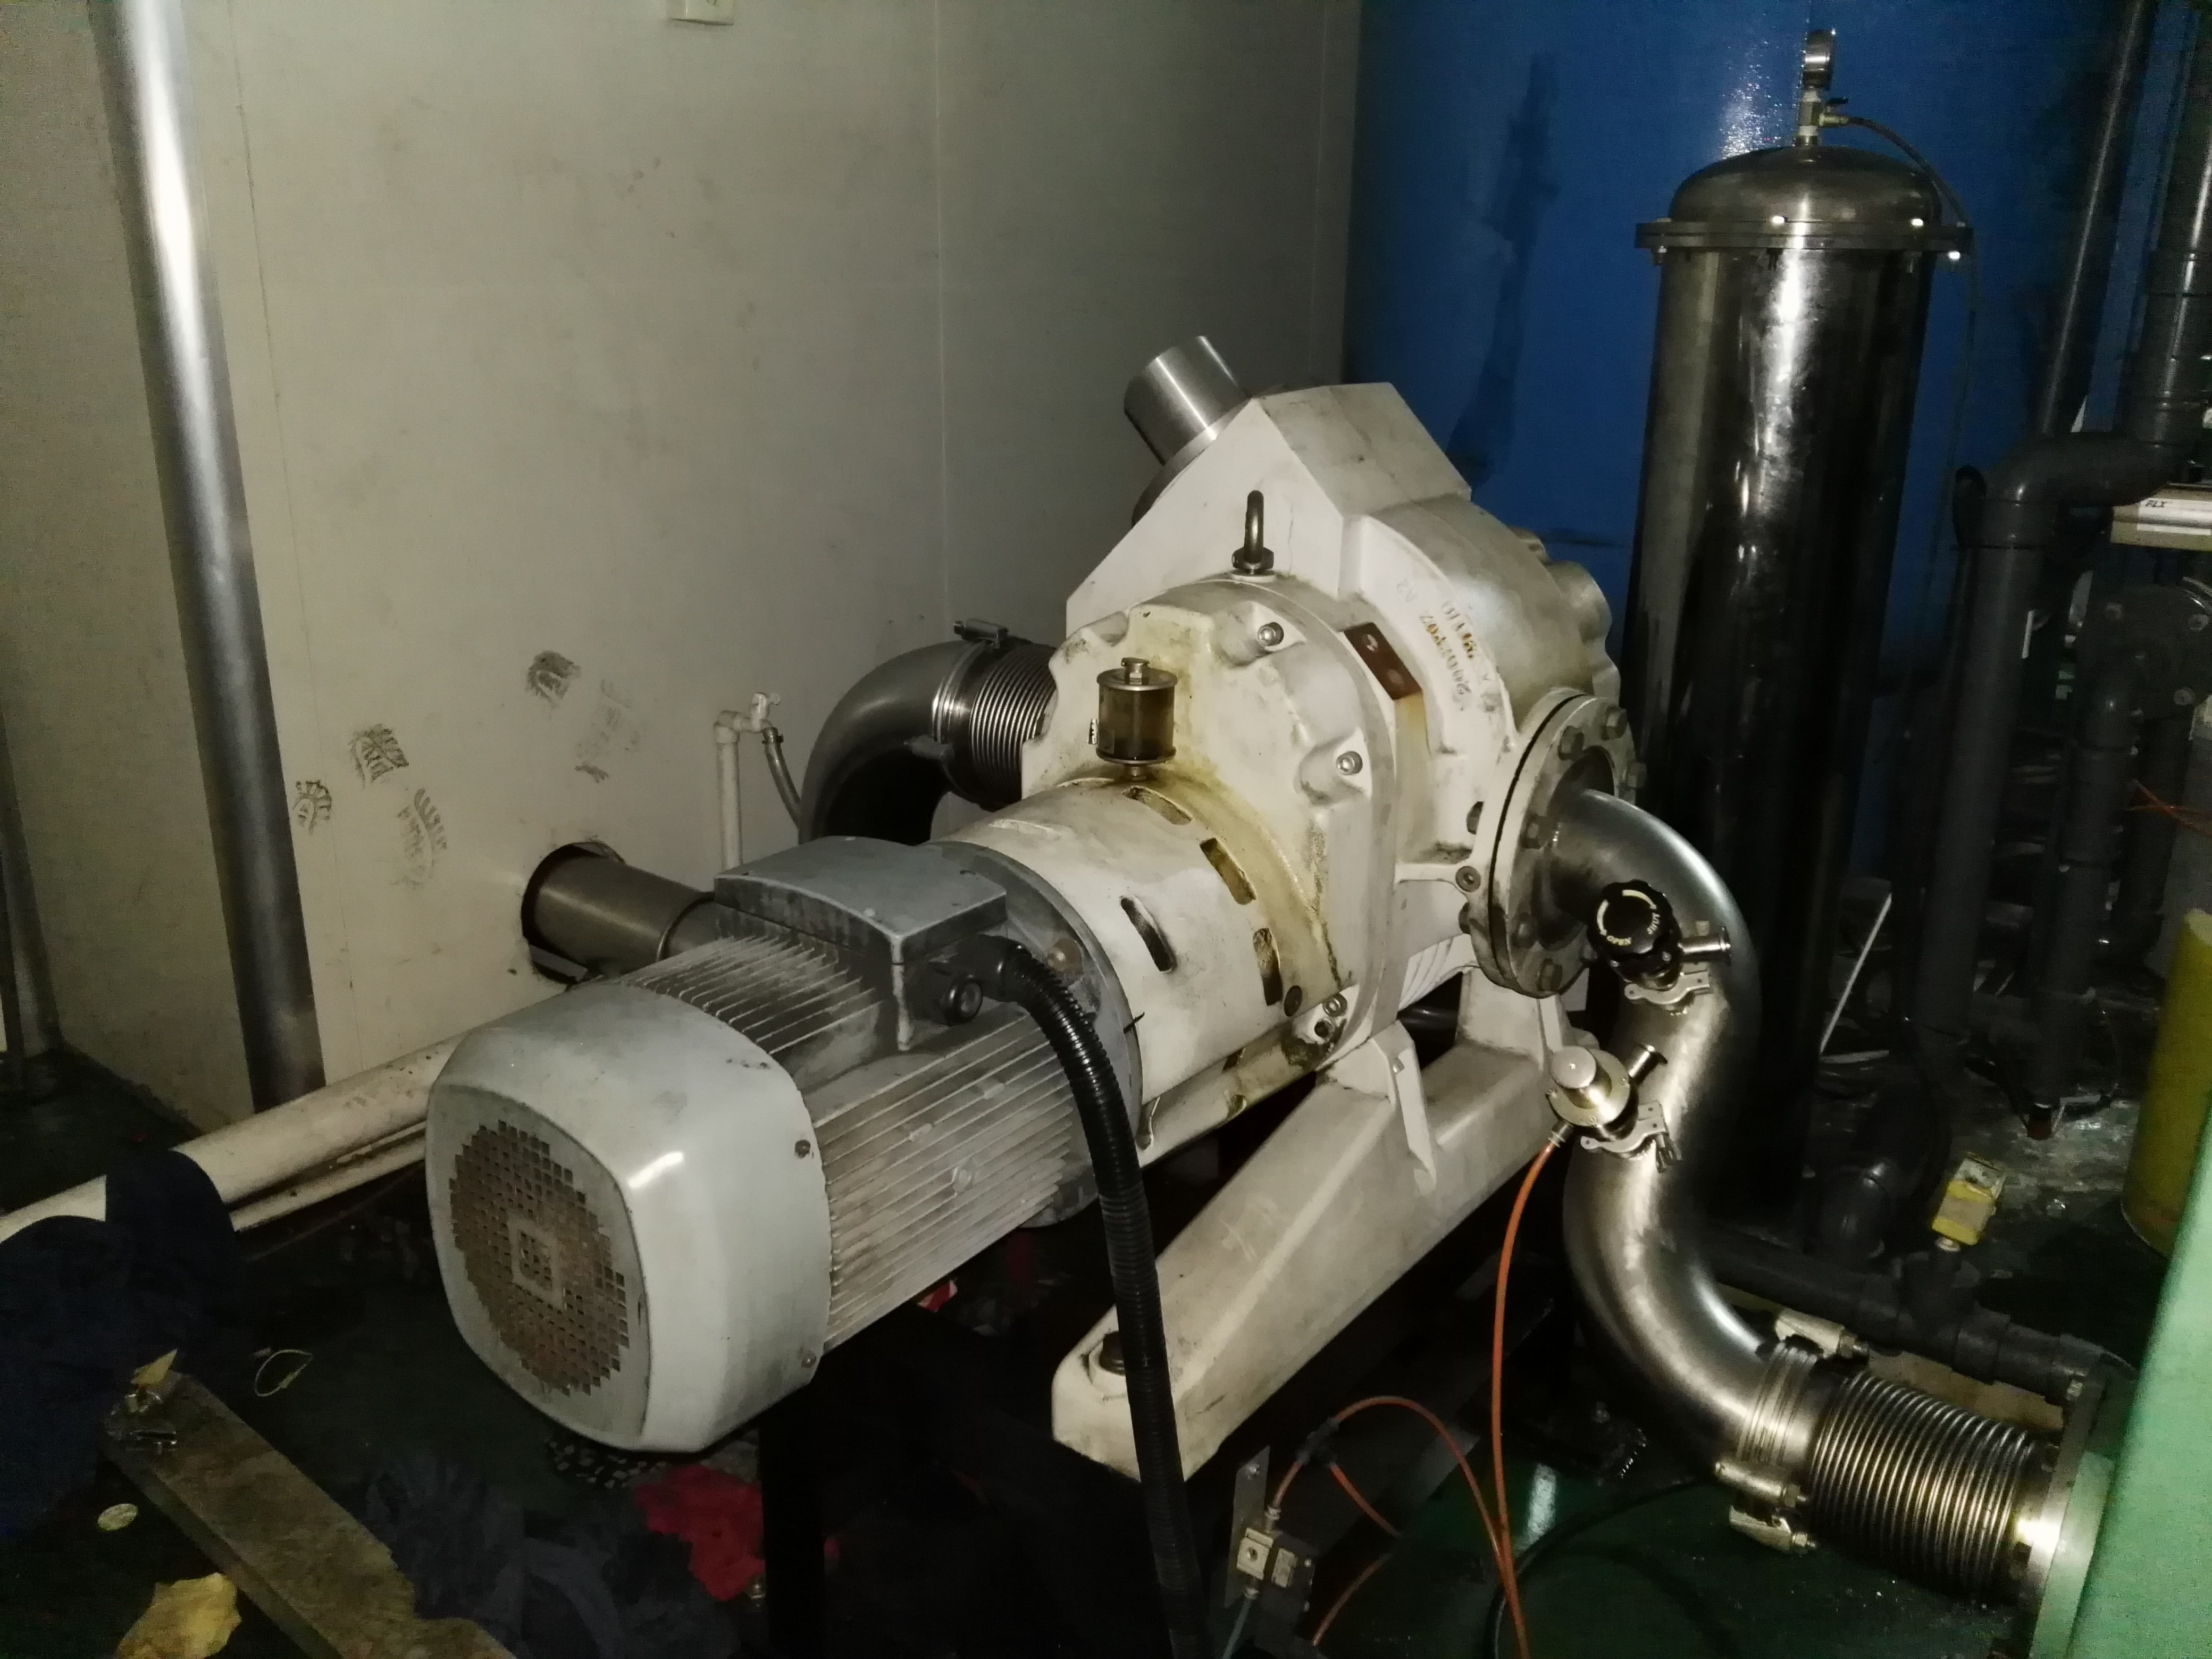oil: (1038, 598, 1325, 882)
